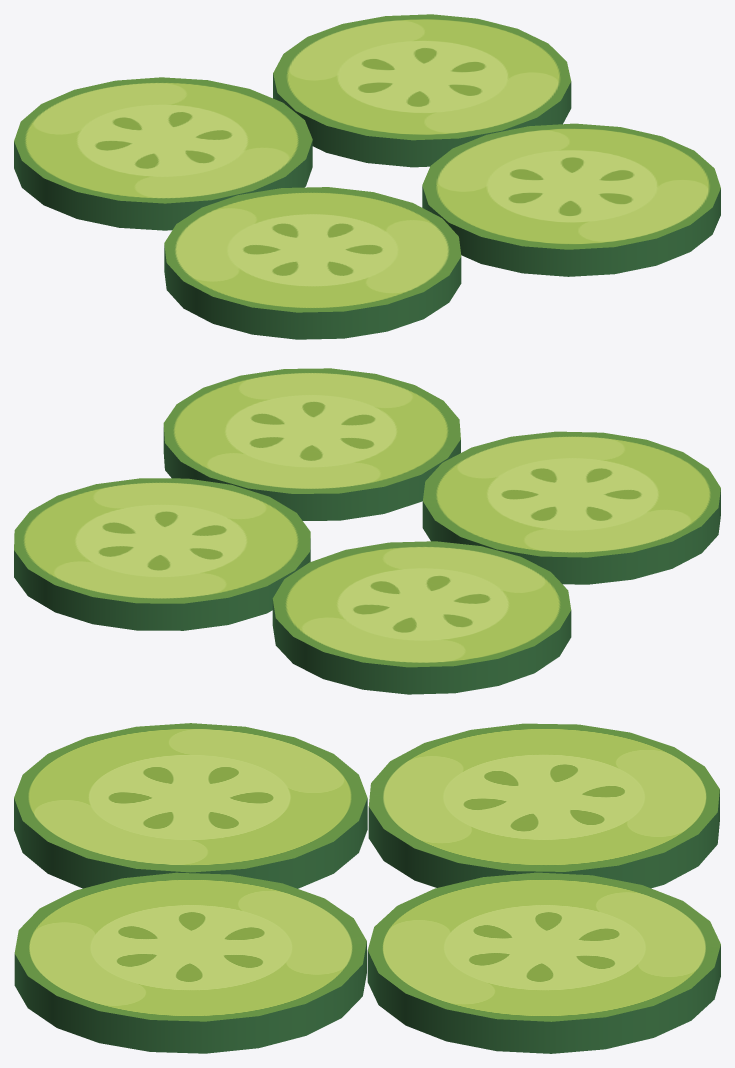
File: Cucumber_Slice.glb
The picture shows the model from 3 angles, top to bottom: view 1: azimuth 30°, elevation 25°; view 2: azimuth 150°, elevation 25°; view 3: azimuth 270°, elevation 25°; orthographic projection. The views are drawn at different scales.
Parts seen in each view (by area): view 1: Cucumber_Slice; view 2: Cucumber_Slice; view 3: Cucumber_Slice.
Part boxes in pixels (x1=…): Cucumber_Slice: x1=14, y1=14, x2=720, y2=339; Cucumber_Slice: x1=14, y1=368, x2=720, y2=694; Cucumber_Slice: x1=14, y1=723, x2=720, y2=1053.
Bounding box in the file's own units: 20 × 1 × 20.
1 material, 1 textured.
